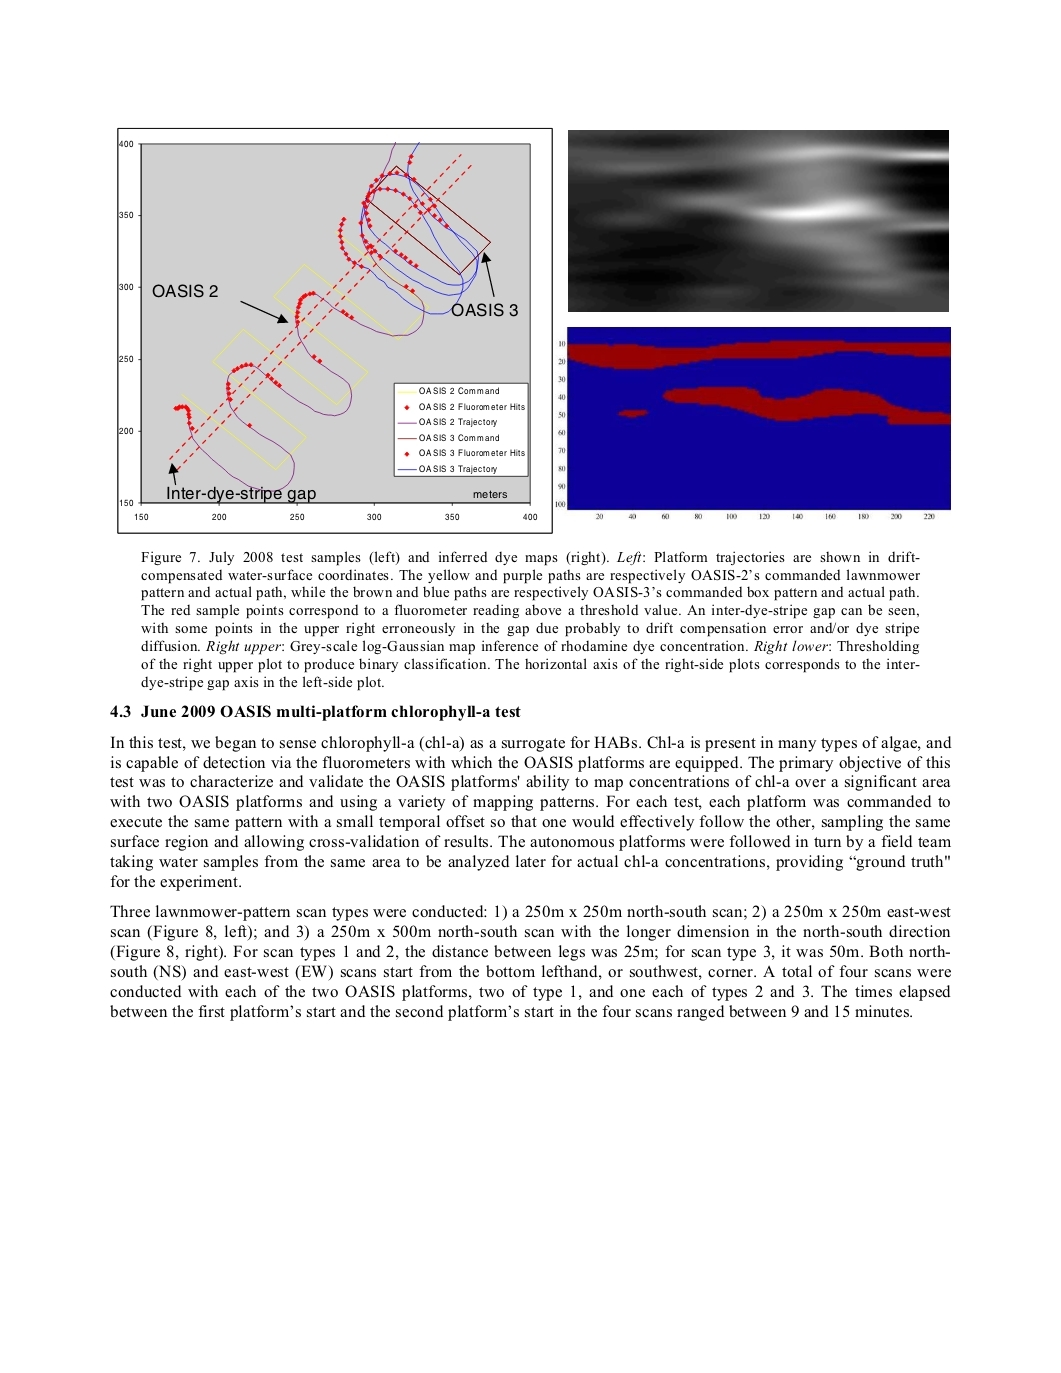figure: (117, 127, 555, 533), (556, 327, 950, 519), (568, 130, 948, 311)
